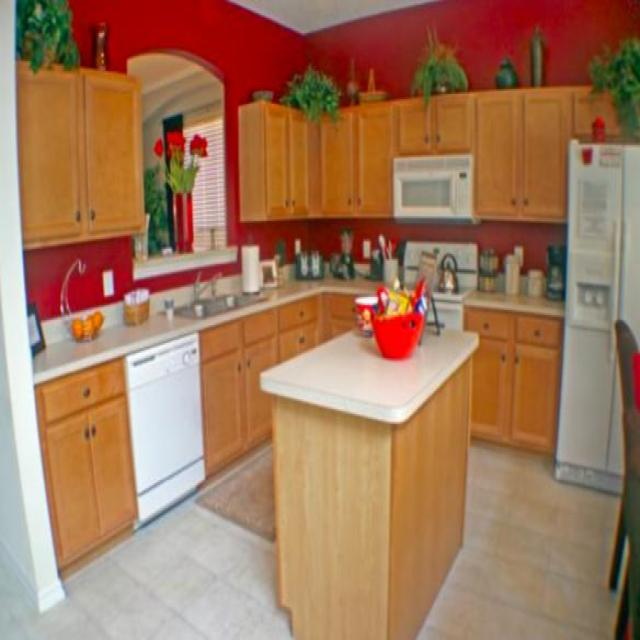dishwasher: (122, 332, 207, 521)
